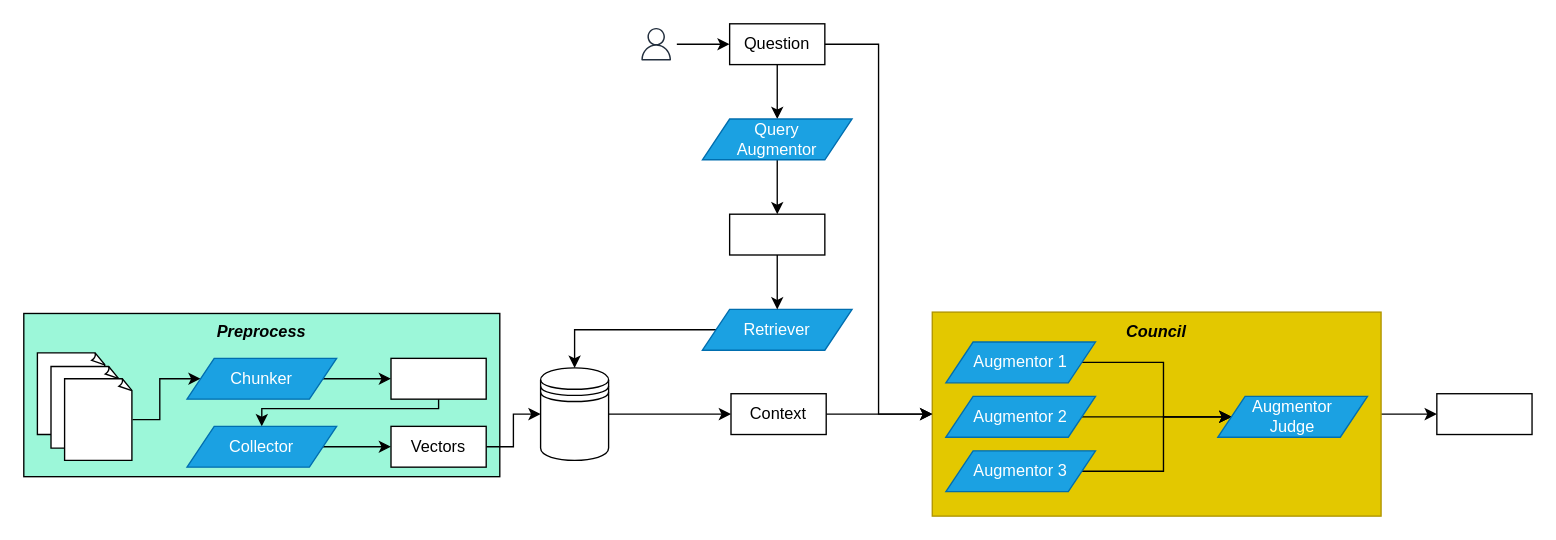
Some shapes in this 1556 by 540 pixel diagram are drawn without their labels. The centre of each missing label's shape, as x and y in pixels:
"Chunks" belongs at point 438,378.
"Final output" belongs at point 1483,413.
"Query" belongs at point 776,234.
"User" belongs at point 655,43.
"Vector DB" belongs at point 574,413.
